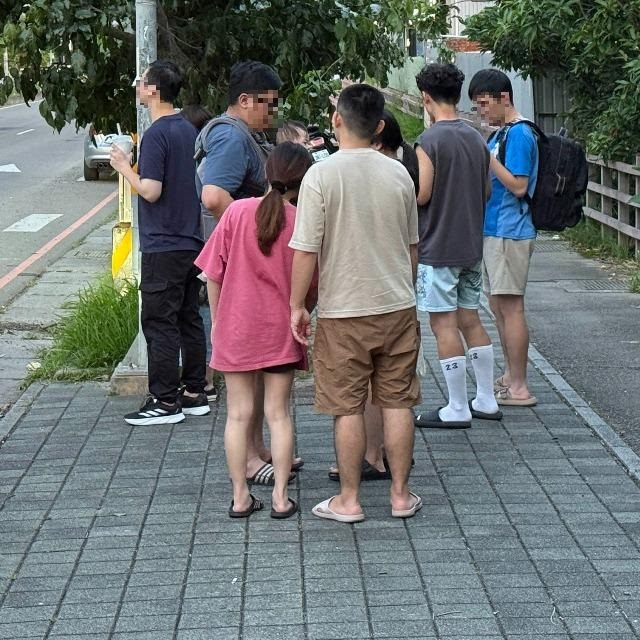NoHelmet: (226, 61, 285, 130), (331, 83, 386, 145), (466, 65, 517, 123), (135, 61, 190, 113), (416, 62, 468, 117)
NoVest: (301, 148, 419, 318), (407, 123, 493, 263)
